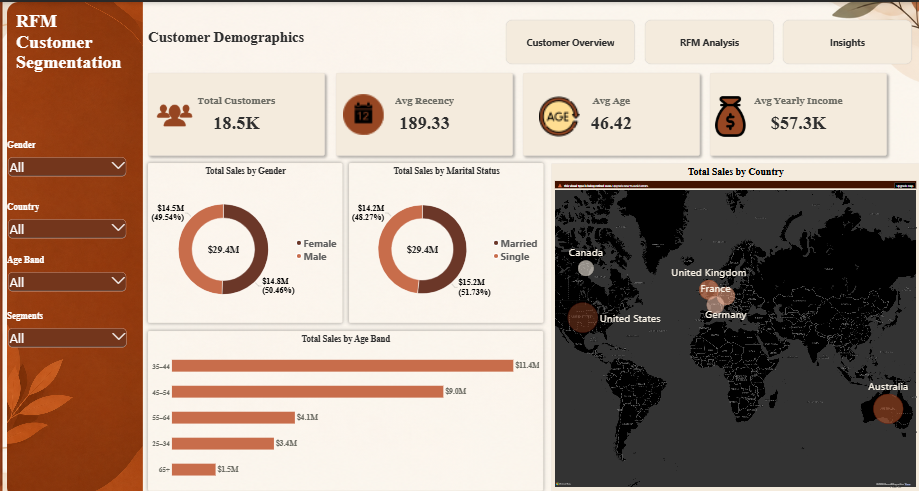

Layout of this report page (visuals, bound fields, positions):
{"tool":"powerbi","page":{"name":"Customer Overview","canvas":[4000,2160],"ordinal":0},"visuals":[{"type":"image","box":[31.8,0,590.9,2159.1],"z":0},{"type":"shape","box":[68.2,0,518.2,345.5],"z":1000},{"type":"cardVisual","fields":{"Data":["Measures 1.Total Customers"]},"box":[645.5,309.1,768.2,359.1],"z":2000},{"type":"image","box":[645.5,404.5,231.8,168.2],"z":3000},{"type":"cardVisual","fields":{"Data":["RFM Measures.Avg Recency"]},"box":[1459.5,309.1,768,359.1],"z":4000},{"type":"image","box":[1490.9,381.8,177.3,213.6],"z":5000},{"type":"clusteredBarChart","title":"Total Sales by Age Band","fields":{"Category":["DimCustomer.Age Band"],"Y":["Measures 1.Total Sales"]},"box":[645.5,1431.8,1718.2,695.5],"z":6000},{"type":"donutChart","title":"Total Sales by Gender","fields":{"Category":["DimCustomer.Gender"],"Y":["Measures 1.Total Sales"]},"box":[645.5,700,845.5,695.5],"z":7000},{"type":"donutChart","title":"Total Sales by Marital Status","fields":{"Category":["DimCustomer.MaritalStatus"],"Y":["Measures 1.Total Sales"]},"box":[1518.2,700,845.5,695.5],"z":8000},{"type":"map","title":"Total Sales by Country","fields":{"Category":["DimGeography.Country Region"],"Size":["Measures 1.Total Sales"]},"box":[2395.5,700,1604.5,1427.3],"z":9000},{"type":"slicer","fields":{"Values":["DimCustomer.Gender"]},"box":[31.8,668.2,522.7,131.8],"z":10000},{"type":"shape","box":[31.8,572.7,413.6,95.5],"z":11000},{"type":"shape","box":[31.8,845.5,413.6,95.5],"z":12000},{"type":"slicer","fields":{"Values":["DimGeography.Country Region"]},"box":[31.8,940.9,522.7,131.8],"z":13000},{"type":"cardVisual","fields":{"Data":["Measures 1.Avg Age"]},"box":[2273.4,309.1,768,359.1],"z":14000},{"type":"image","box":[2341.8,391.8,177.3,213.6],"z":15000},{"type":"cardVisual","fields":{"Data":["Measures 1.Avg Yearly Income"]},"box":[3086.4,309.1,768,359.1],"z":16000},{"type":"image","box":[3086.4,390.9,177.3,213.6],"z":17000},{"type":"shape","box":[31.8,1072.7,413.6,95.5],"z":18000},{"type":"slicer","fields":{"Values":["DimCustomer.Age Band"]},"box":[31.8,1168.2,522.7,131.8],"z":19000},{"type":"shape","box":[31.8,1318.2,413.6,95.5],"z":20000},{"type":"slicer","fields":{"Values":["Segment Lookup.Segment"]},"box":[31.8,1413.6,522.7,131.8],"z":21000},{"type":"actionButton","box":[2195.5,72.7,568.2,200],"z":22000},{"type":"actionButton","box":[2800,72.7,568.2,200],"z":23000},{"type":"actionButton","box":[3400,72.7,568.2,200],"z":24000},{"type":"shape","box":[645.5,36.4,1386.4,236.4],"z":25000}]}

Visuals, with their boxes in screenshot pixels (x1, y1, x2, y2), scaled from the page's 4000x2160 canvas onto the 919x491 screenshot:
image: 7, 0, 143, 490
shape: 16, 0, 135, 79
cardVisual - Measures 1.Total Customers: 148, 70, 325, 152
image: 148, 92, 202, 130
cardVisual - RFM Measures.Avg Recency: 335, 70, 512, 152
image: 343, 87, 383, 135
"Total Sales by Age Band" clusteredBarChart: 148, 325, 543, 484
"Total Sales by Gender" donutChart: 148, 159, 343, 317
"Total Sales by Marital Status" donutChart: 349, 159, 543, 317
"Total Sales by Country" map: 550, 159, 918, 484
slicer - DimCustomer.Gender: 7, 152, 127, 182
shape: 7, 130, 102, 152
shape: 7, 192, 102, 214
slicer - DimGeography.Country Region: 7, 214, 127, 244
cardVisual - Measures 1.Avg Age: 522, 70, 699, 152
image: 538, 89, 579, 138
cardVisual - Measures 1.Avg Yearly Income: 709, 70, 886, 152
image: 709, 89, 750, 137
shape: 7, 244, 102, 266
slicer - DimCustomer.Age Band: 7, 266, 127, 296
shape: 7, 300, 102, 321
slicer - Segment Lookup.Segment: 7, 321, 127, 351
actionButton: 504, 17, 635, 62
actionButton: 643, 17, 774, 62
actionButton: 781, 17, 912, 62
shape: 148, 8, 467, 62
